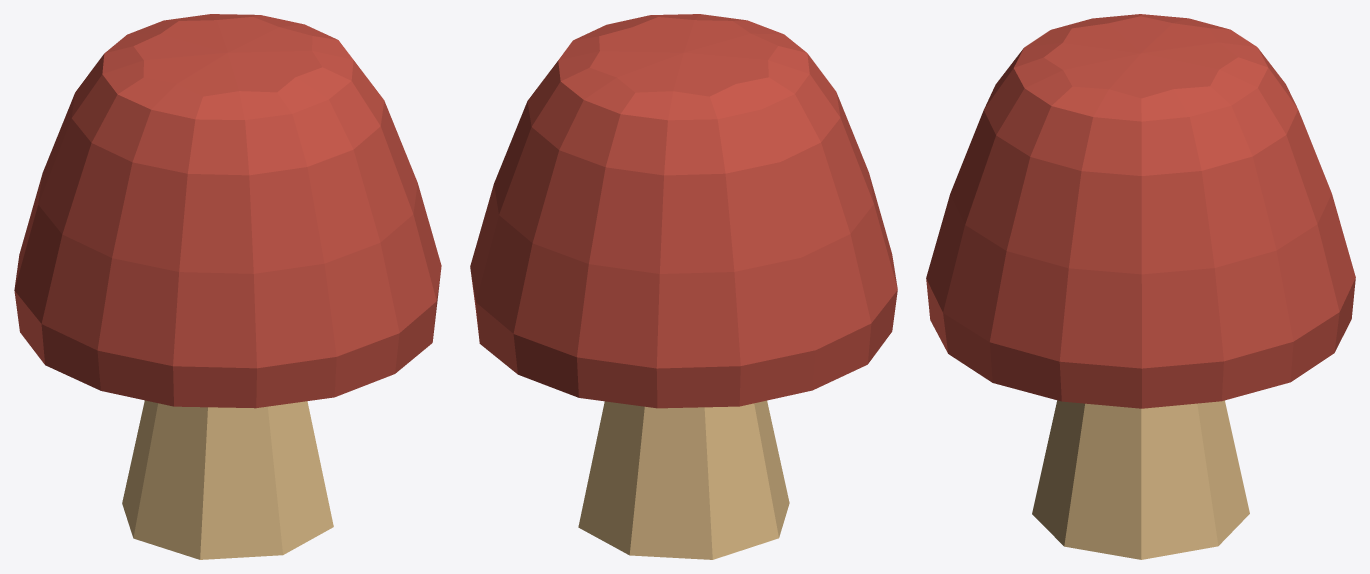
The model's file is mushroom-05.glb.
3 views of the same model, side by side, from view 1: azimuth 30°, elevation 25°; view 2: azimuth 150°, elevation 25°; view 3: azimuth 270°, elevation 25° (orthographic).
Visible parts, largest first — view 1: Mushroom3_2.001; view 2: Mushroom3_2.001; view 3: Mushroom3_2.001.
Part boxes in pixels (box(x1,y1,x2,y2)): Mushroom3_2.001: box(14, 14, 441, 559); Mushroom3_2.001: box(470, 14, 897, 559); Mushroom3_2.001: box(926, 14, 1355, 559).
Size of the model in its own units: 0.758 by 0.8963 by 0.758.
